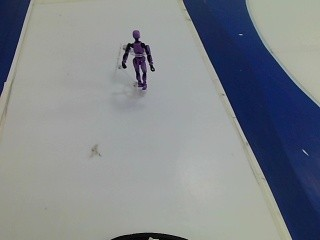pedestrian: (112, 26, 161, 99)
